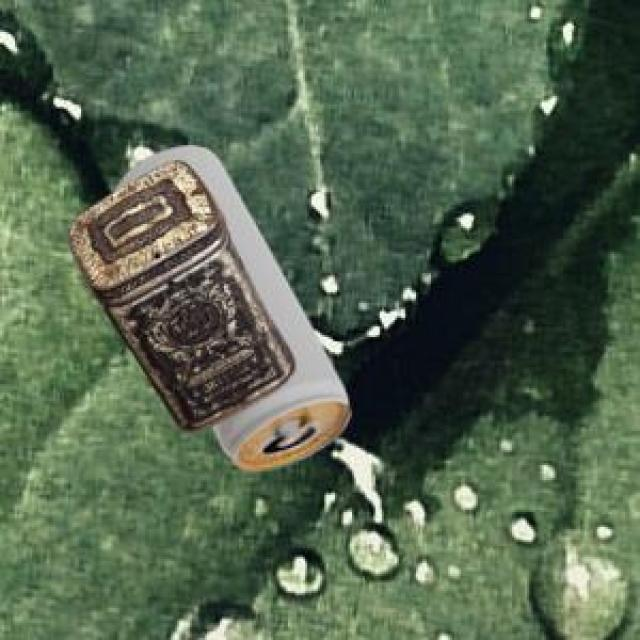Can: (114, 144, 347, 468), (65, 159, 291, 428)
